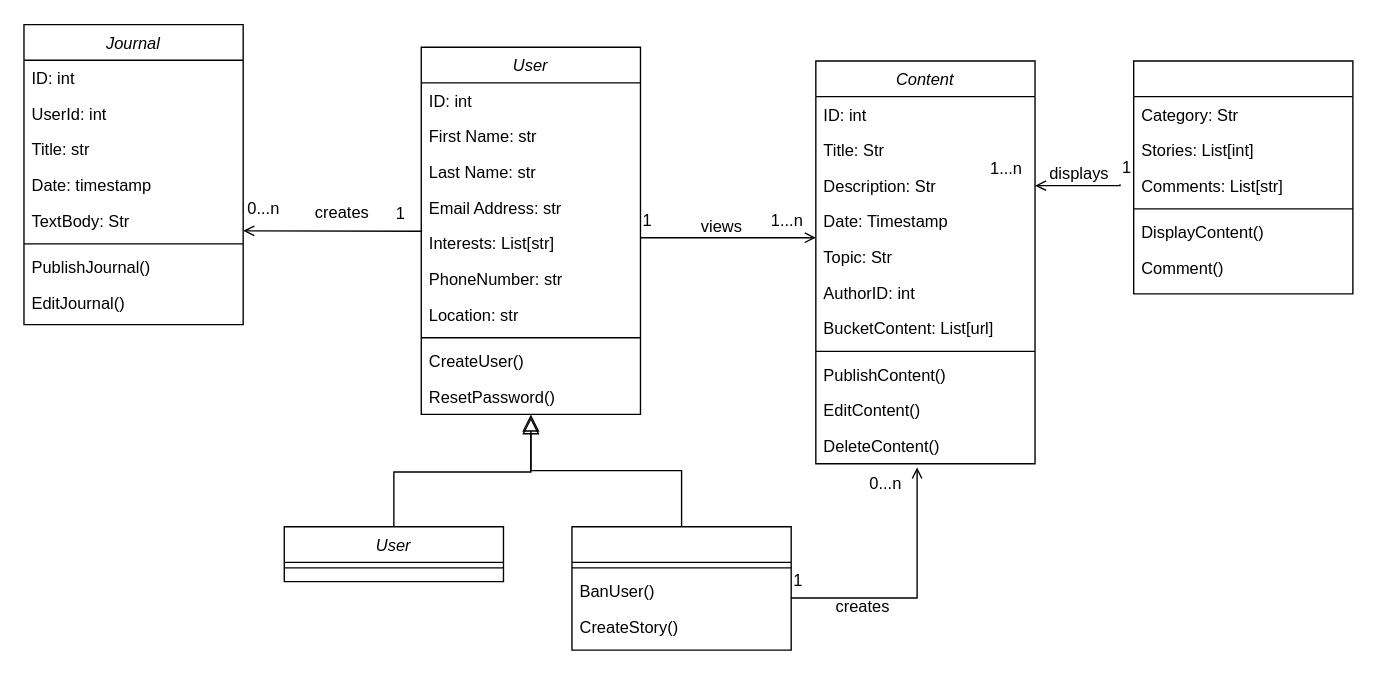
Image size: 1377x674. Some labels were removed from this diagram. The shapes that lost their labels are listed below. From the top down, each one's box as (x1, y1, x2, y2) in pixels, then its label:
(1132, 60, 1353, 294): Feed
(571, 525, 791, 650): Admin
